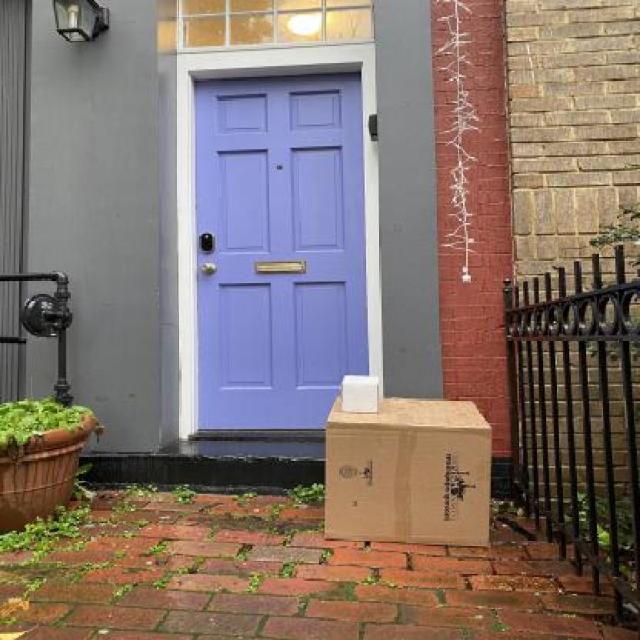cardboxes: (318, 395, 494, 551), (338, 372, 384, 416)
